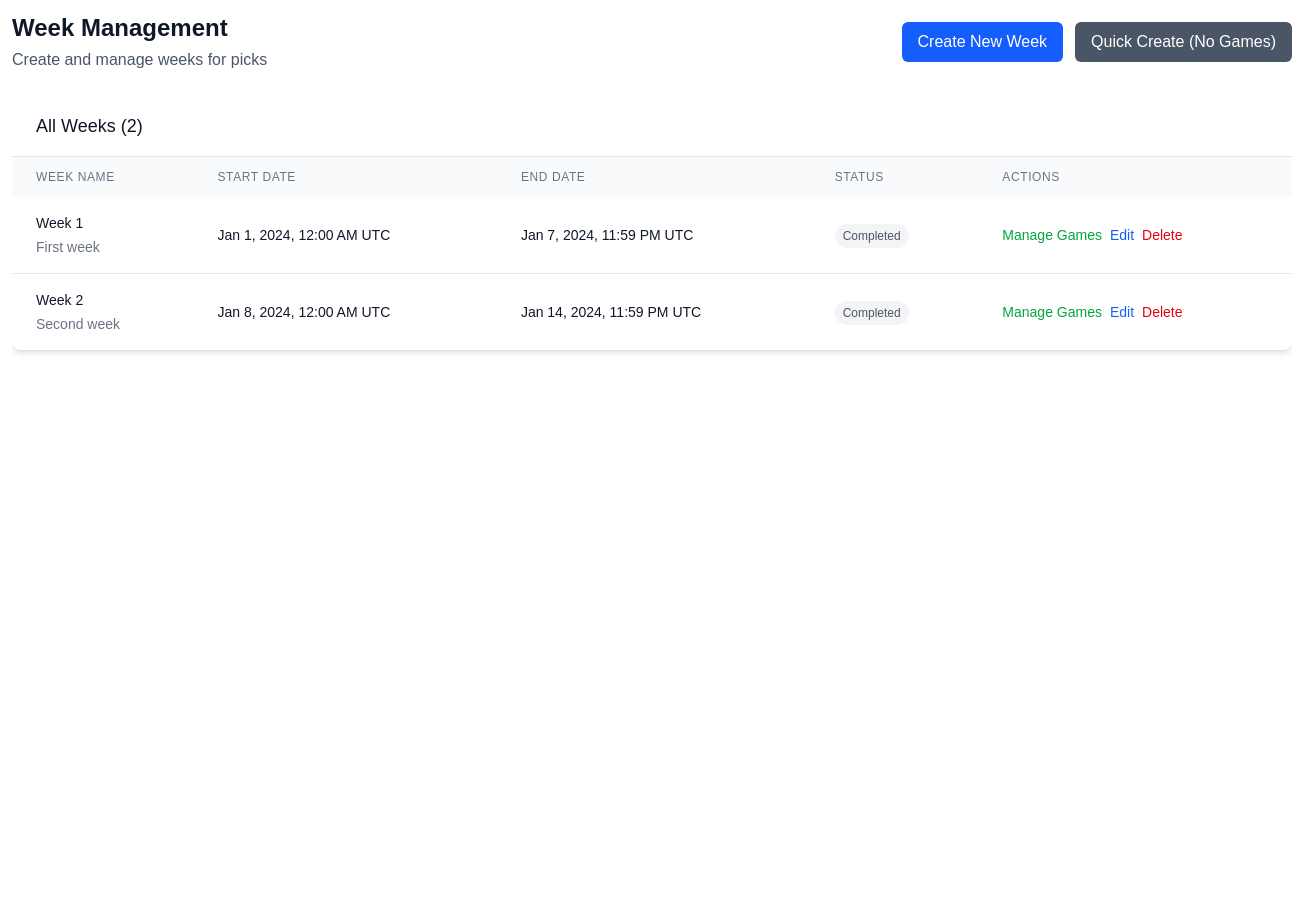
WeekManagement › should handle update week error
Open edit form
Step 1. Click the button "Edit" in the row of "Week 1" → (1122, 235), box [1110, 225, 1134, 245]
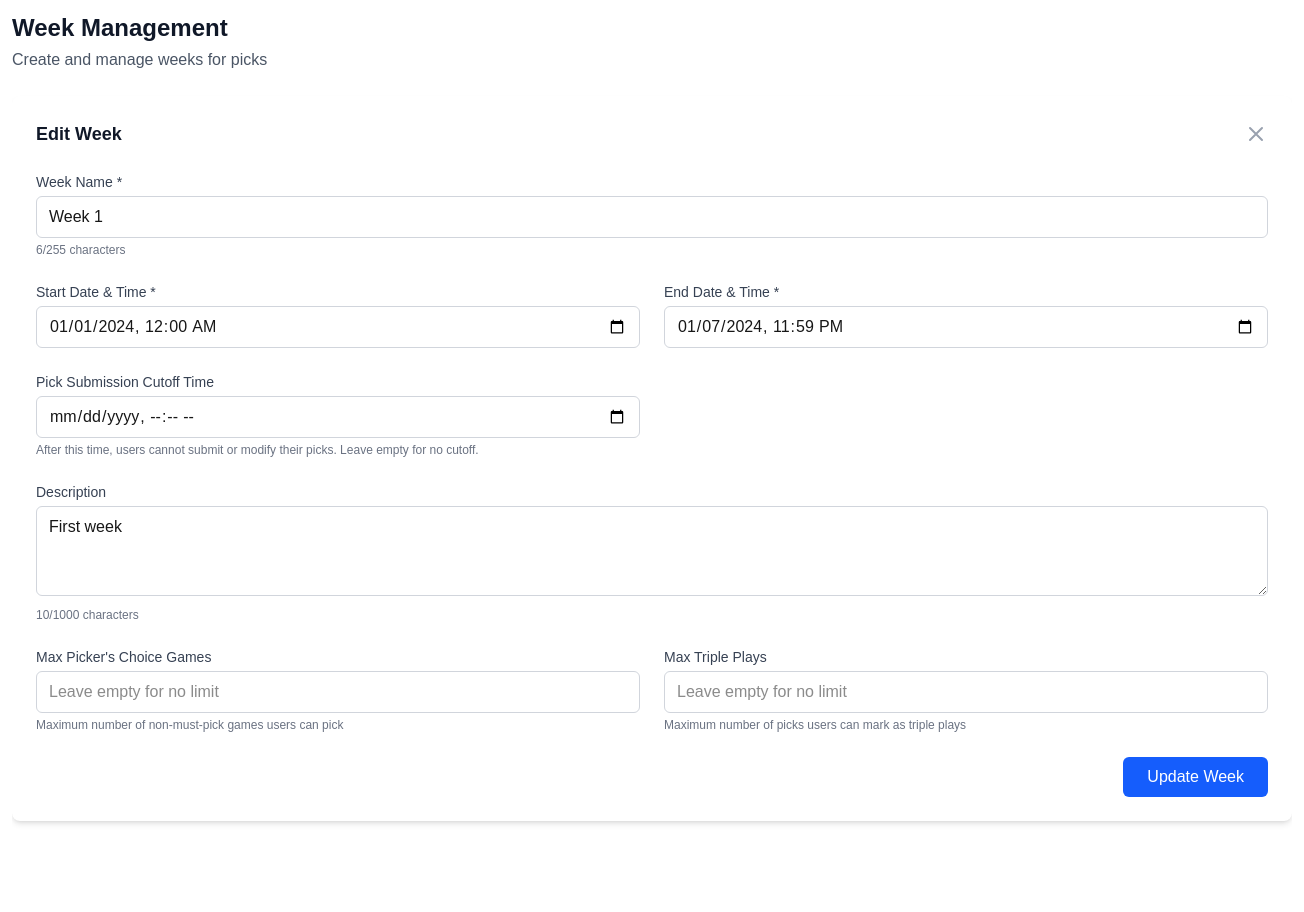
Submit form
Step 2. Click the button "Update Week" → (1196, 777), box [1123, 757, 1268, 797]
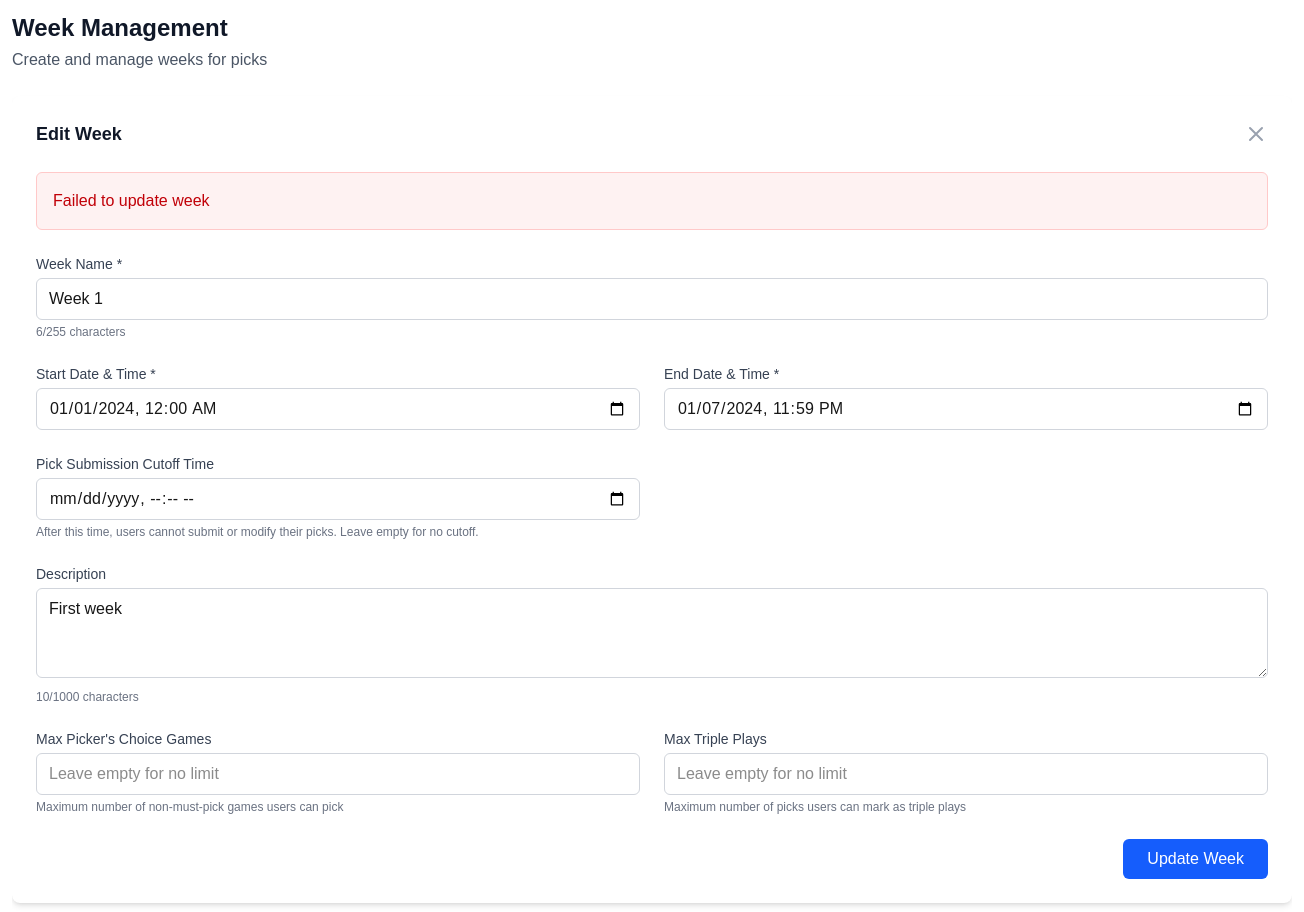
Expected: the text "Failed to update week" is shown, [53, 192, 210, 209]
